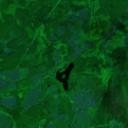alloviz: (54, 61, 75, 90)
